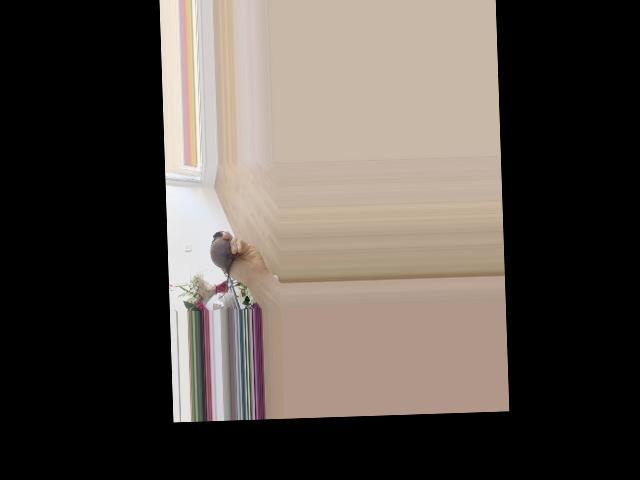beet: (209, 230, 235, 298)
